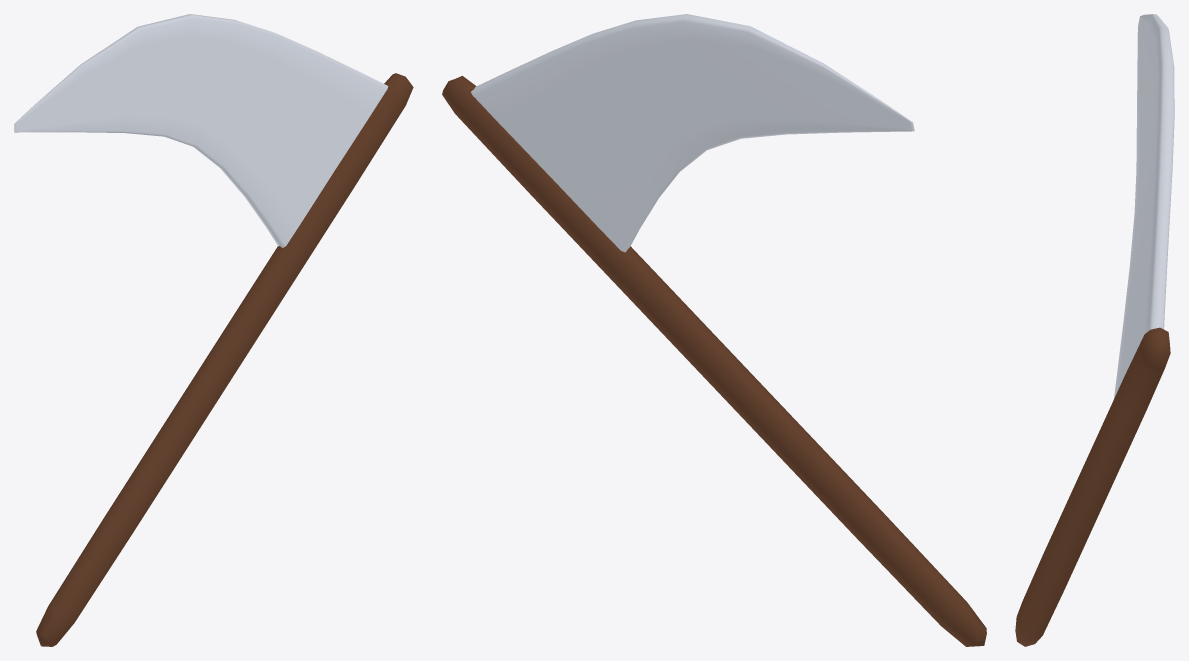
File: accessory-backscythe.glb
The picture shows the model from 3 angles, left to right: view 1: azimuth 30°, elevation 25°; view 2: azimuth 150°, elevation 25°; view 3: azimuth 270°, elevation 25°; orthographic projection. The views are drawn at different scales.
Parts seen in each view (by area): view 1: accessory__Cube_001__0; view 2: accessory__Cube_001__0; view 3: accessory__Cube_001__0.
Boxes of the visible parts, bbox=[...] form: accessory__Cube_001__0: bbox=[14, 14, 413, 646]; accessory__Cube_001__0: bbox=[442, 14, 986, 646]; accessory__Cube_001__0: bbox=[1015, 14, 1174, 646].
Bounding box in the file's own units: 0.8361 × 1.03 × 0.209.
